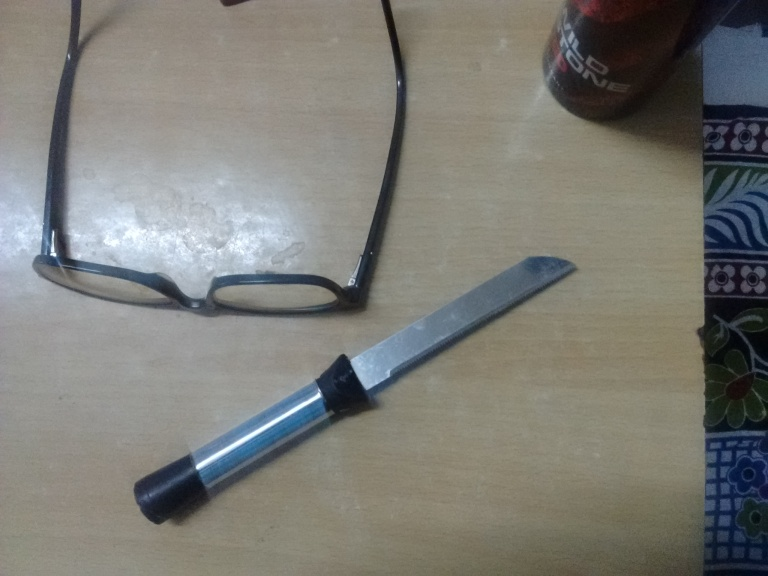knife: (135, 255, 576, 524)
